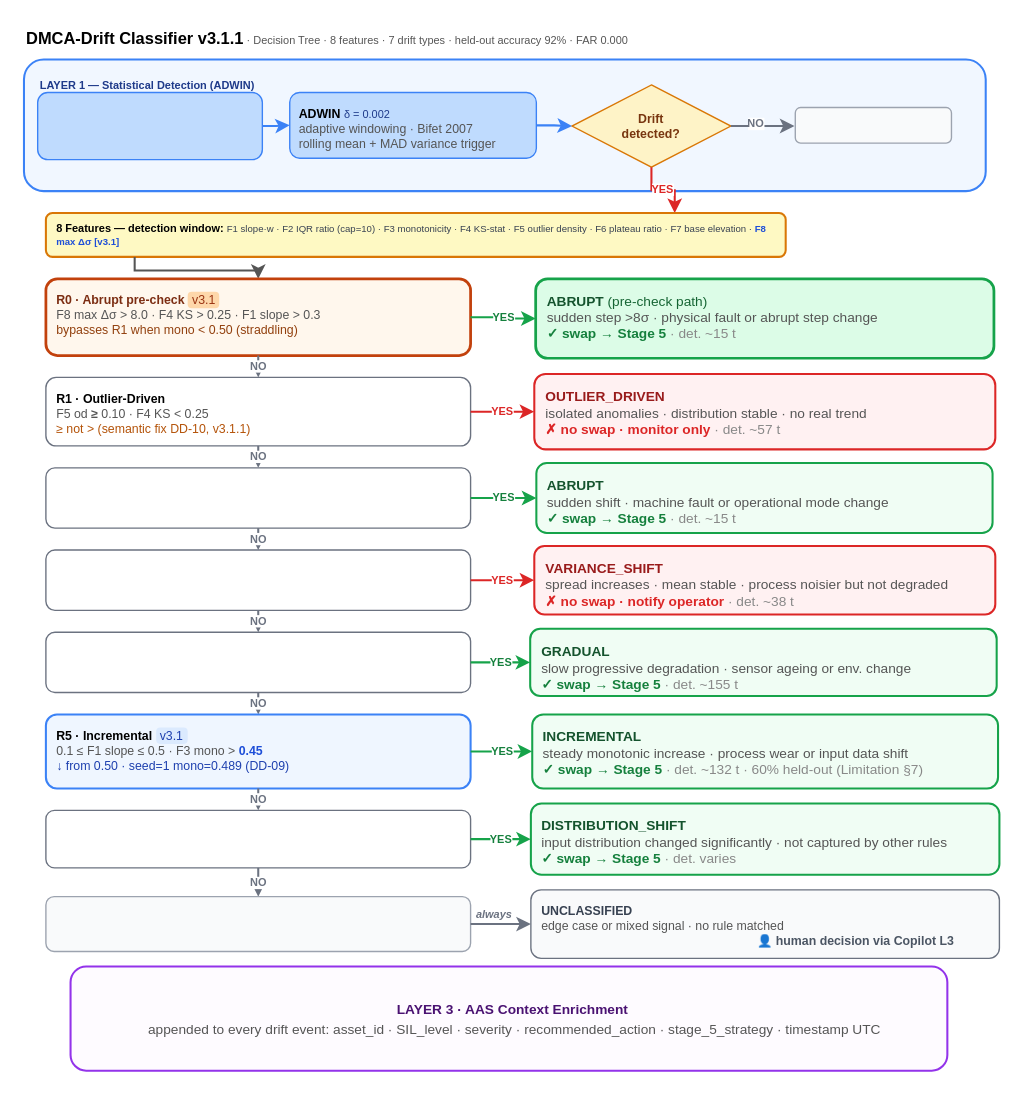
The diagram is 1025 pixels wide and 1095 high, and some of its shapes have lost their labels. The centre of each missing label's shape, as x and y in pixels:
continue monitoring: pixel 872 124
Fallback no previous rule matched — default branch: pixel 258 923
MAE Residual Stream e_t = |y_true − ŷ_t| · each inference cycle: pixel 149 125
R2 · Abrupt F1 slope > 0.5 · F3 mono > 0.50 · F4 KS > 0.25: pixel 258 497
R3 · Variance Shift F2 IQR ratio > 1.5 · F1 slope < 0.2: pixel 258 579
R4 · Gradual F1 slope < 0.15 · F5 outlier density > 0.50: pixel 258 662
R6 · Distribution Shift F4 KS-stat > 0.40: pixel 258 838
